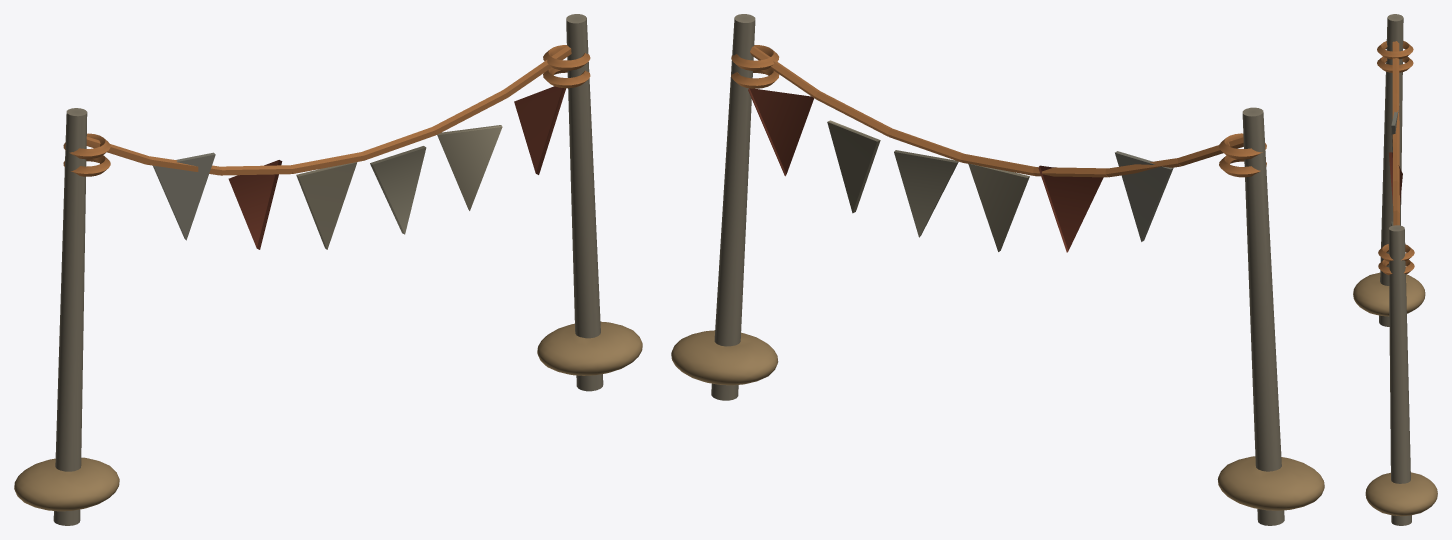
Rendered from keeper_bunting_b.glb.
The picture shows the model from 3 angles, left to right: view 1: azimuth 30°, elevation 25°; view 2: azimuth 150°, elevation 25°; view 3: azimuth 270°, elevation 25°; orthographic projection. The views are drawn at different scales.
Parts seen in each view (by area): view 1: Surface; view 2: Surface; view 3: Surface.
Boxes of the visible parts, bbox=[...] form: Surface: bbox=[14, 14, 642, 525]; Surface: bbox=[671, 14, 1324, 525]; Surface: bbox=[1353, 14, 1437, 525].
Size of the model in its own units: 4.48 by 2.76 by 0.6818.
